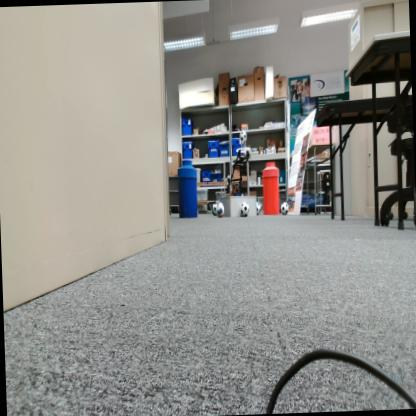ball: (216, 203, 225, 218), (241, 202, 250, 216), (240, 130, 247, 143), (282, 202, 288, 216), (212, 204, 218, 216), (257, 201, 261, 215)
